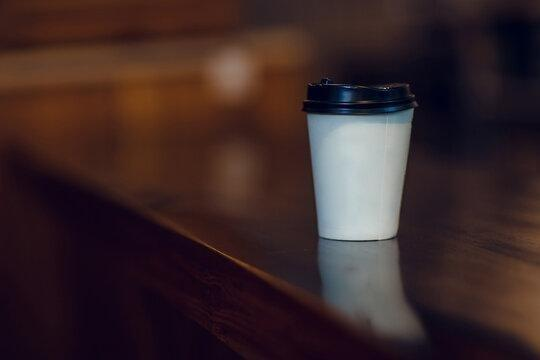cup-disposable: (301, 75, 418, 243)
